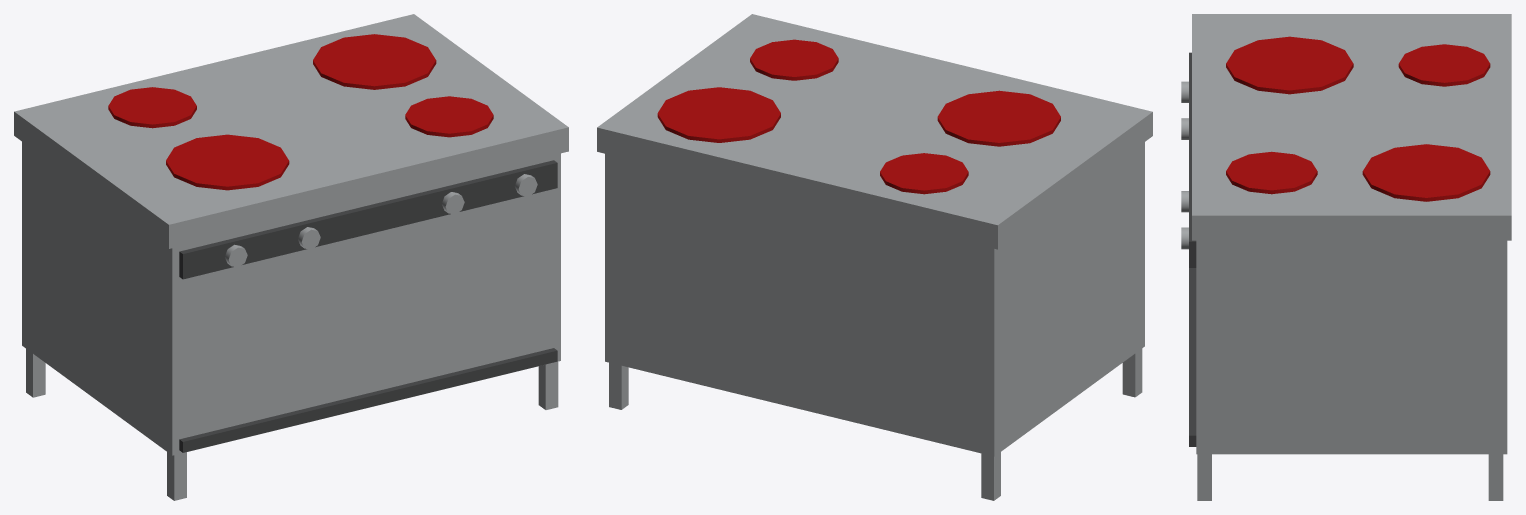
File: SM_stove_kitchen.fbx
The picture shows the model from 3 angles, left to right: view 1: azimuth 30°, elevation 25°; view 2: azimuth 150°, elevation 25°; view 3: azimuth 270°, elevation 25°; orthographic projection. The views are drawn at different scales.
Parts seen in each view (by area): view 1: Box159; view 2: Box159; view 3: Box159.
Part boxes in pixels (bbox=[...]): Box159: bbox=[14, 14, 568, 500]; Box159: bbox=[597, 14, 1152, 500]; Box159: bbox=[1181, 14, 1511, 500].
Bounding box in the file's own units: 61.41 × 42.55 × 41.62.
